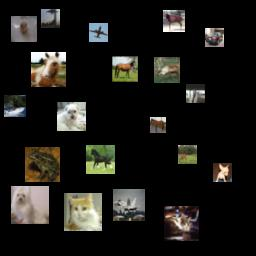airplane: (113, 189, 145, 221), (89, 23, 108, 42), (41, 9, 60, 28)
automobile: (205, 28, 224, 47)
cat: (64, 193, 102, 231), (164, 206, 199, 241)
deer: (154, 57, 180, 83), (178, 145, 197, 164)
dog: (11, 186, 49, 224), (57, 102, 86, 131), (11, 16, 37, 42), (213, 163, 232, 182)
frog: (25, 147, 60, 182)
ship: (4, 95, 26, 117)
